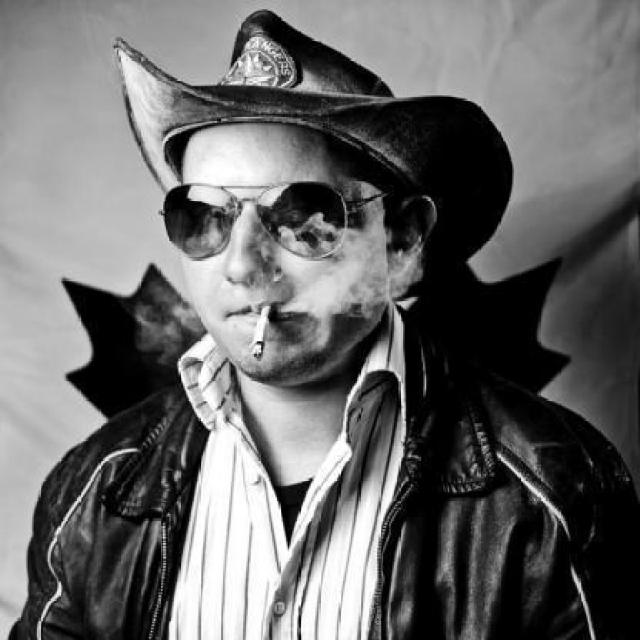face_nomask: (161, 176, 356, 339)
glasses: (154, 168, 428, 257)
head_nohelmet: (115, 22, 490, 183)
